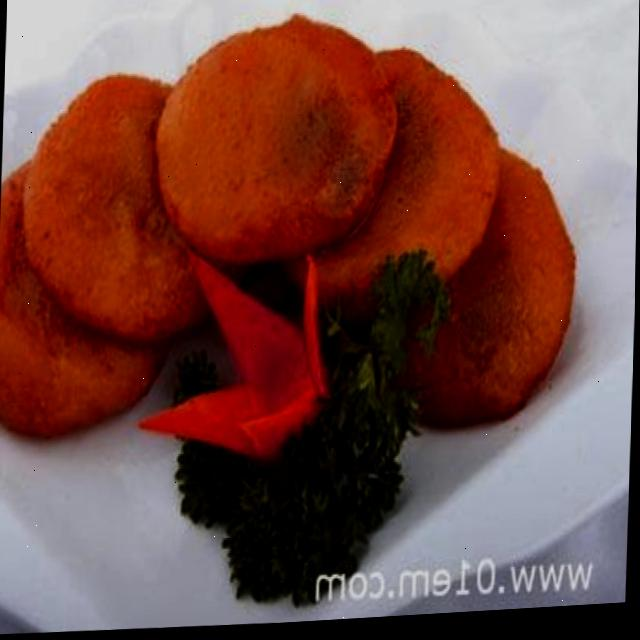炸货点心: (0, 0, 640, 630)
蛋糕甜品: (0, 0, 640, 630)
